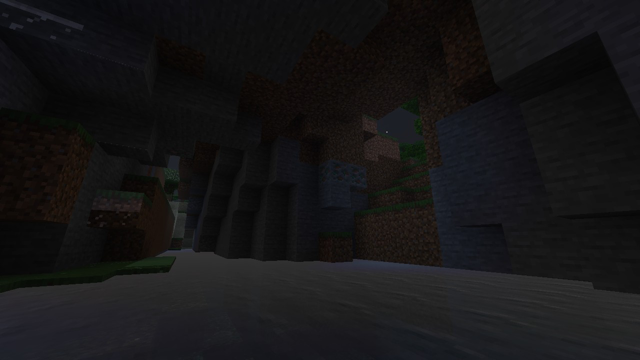copper: (315, 160, 369, 187)
